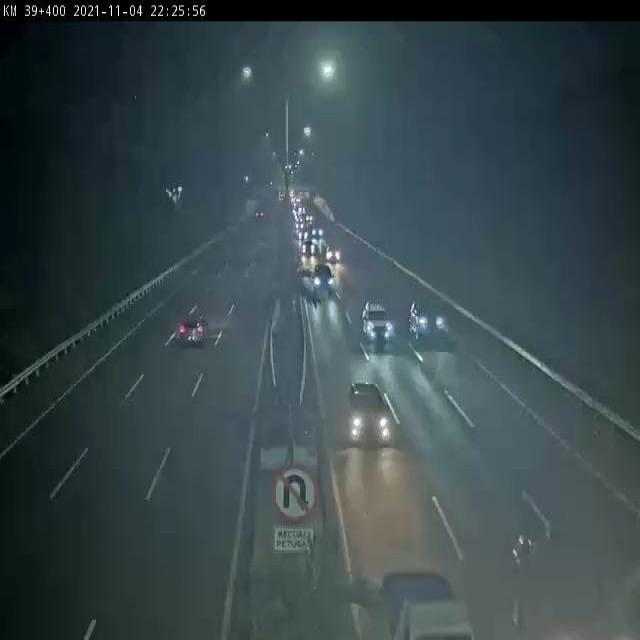car: (382, 570, 472, 640), (352, 382, 388, 446), (408, 299, 449, 340), (364, 300, 391, 344), (179, 315, 206, 344), (312, 262, 334, 294)
